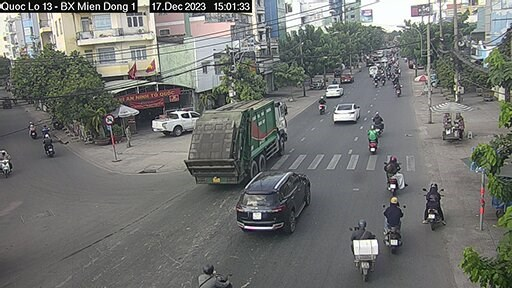car: (227, 175, 302, 236), (148, 104, 199, 140), (324, 77, 354, 100), (334, 98, 354, 131)
motorbike: (339, 212, 382, 274), (373, 195, 413, 253), (426, 175, 447, 236), (363, 110, 381, 155), (370, 100, 388, 136), (386, 154, 399, 200)
